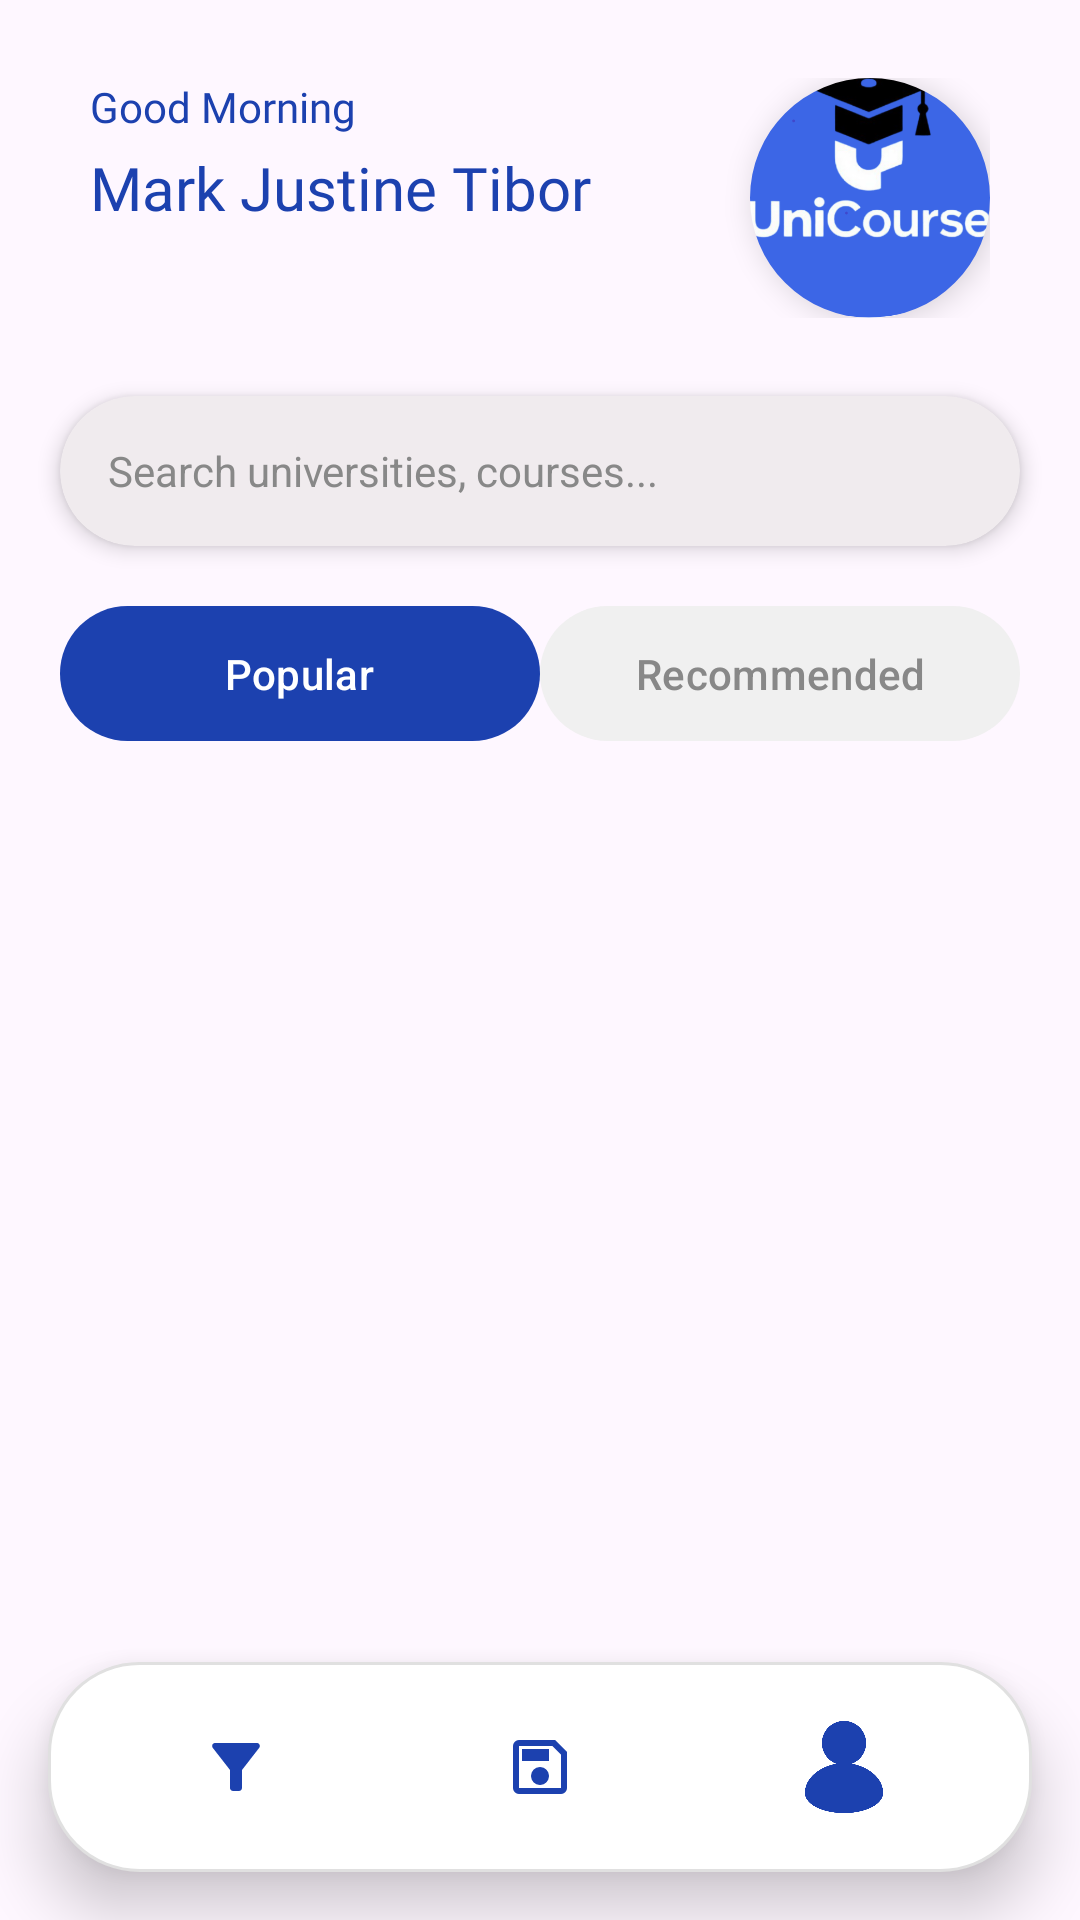

Named icons in this screenshot (1080*1920) and their centers, [x,y]:
filter: [236,1767]
save: [540,1767]
user: [844,1767]
